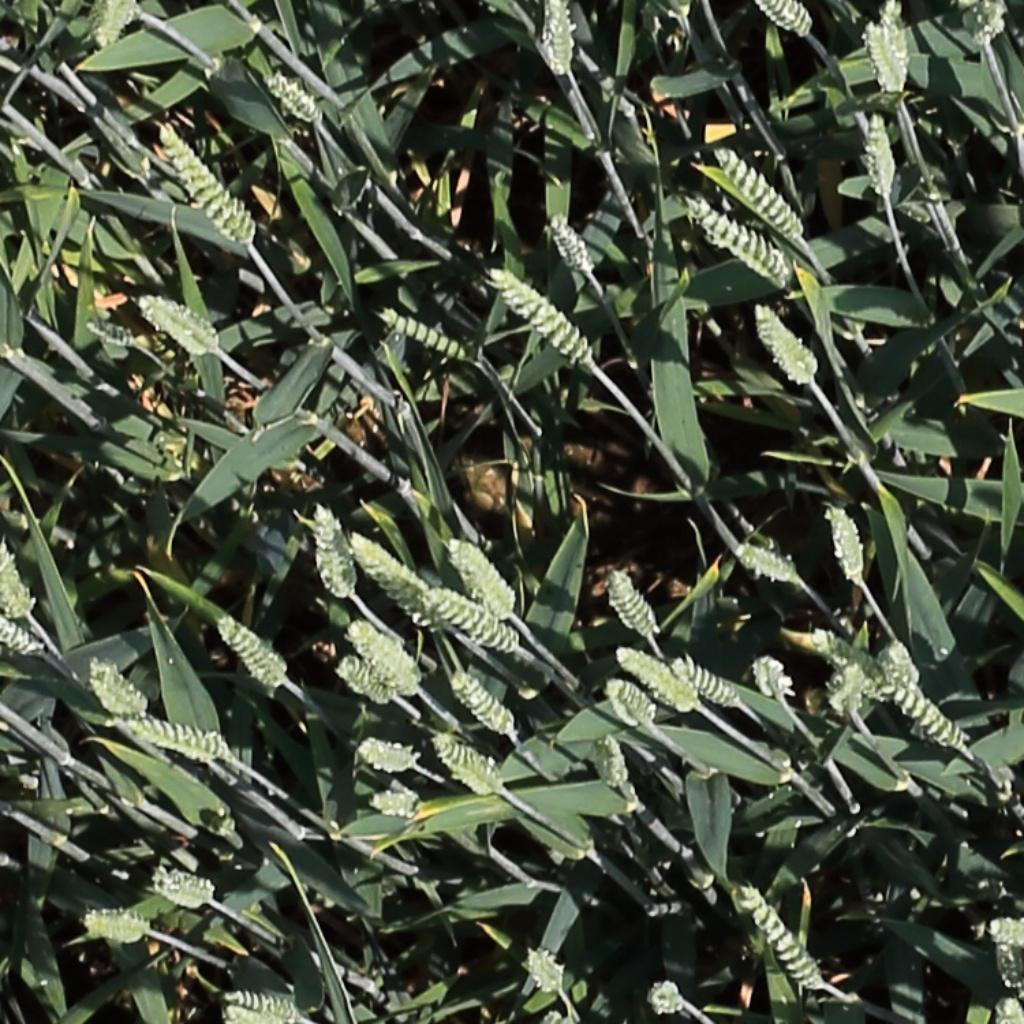0-0: (154, 117, 253, 244), (490, 263, 598, 367), (738, 879, 827, 993), (714, 140, 808, 240), (350, 532, 443, 633), (686, 196, 790, 283), (868, 679, 970, 750), (446, 533, 520, 619), (753, 297, 821, 387), (427, 588, 518, 653), (215, 614, 289, 690), (618, 647, 701, 711), (380, 308, 475, 363), (449, 669, 520, 741), (348, 622, 420, 689), (606, 562, 664, 644), (140, 294, 218, 349), (125, 720, 230, 760), (434, 738, 503, 795), (546, 204, 599, 278), (812, 632, 890, 682), (314, 502, 352, 603), (86, 659, 148, 719), (865, 16, 912, 95), (827, 501, 869, 587), (673, 659, 744, 708), (81, 903, 157, 948), (263, 69, 323, 125), (866, 105, 899, 202), (877, 4, 914, 87), (223, 984, 296, 1024), (337, 656, 393, 705), (883, 633, 925, 697), (735, 543, 802, 582), (541, 1, 577, 73), (92, 0, 140, 54), (604, 679, 659, 726), (0, 539, 31, 621), (522, 946, 569, 996), (835, 655, 868, 722), (0, 606, 42, 658), (598, 727, 630, 795), (752, 651, 789, 707), (763, 1, 815, 38), (970, 0, 1004, 53), (151, 875, 214, 903), (356, 742, 419, 768), (995, 939, 1024, 993), (86, 318, 143, 345), (648, 980, 686, 1018), (370, 797, 424, 816), (978, 922, 1024, 944)
